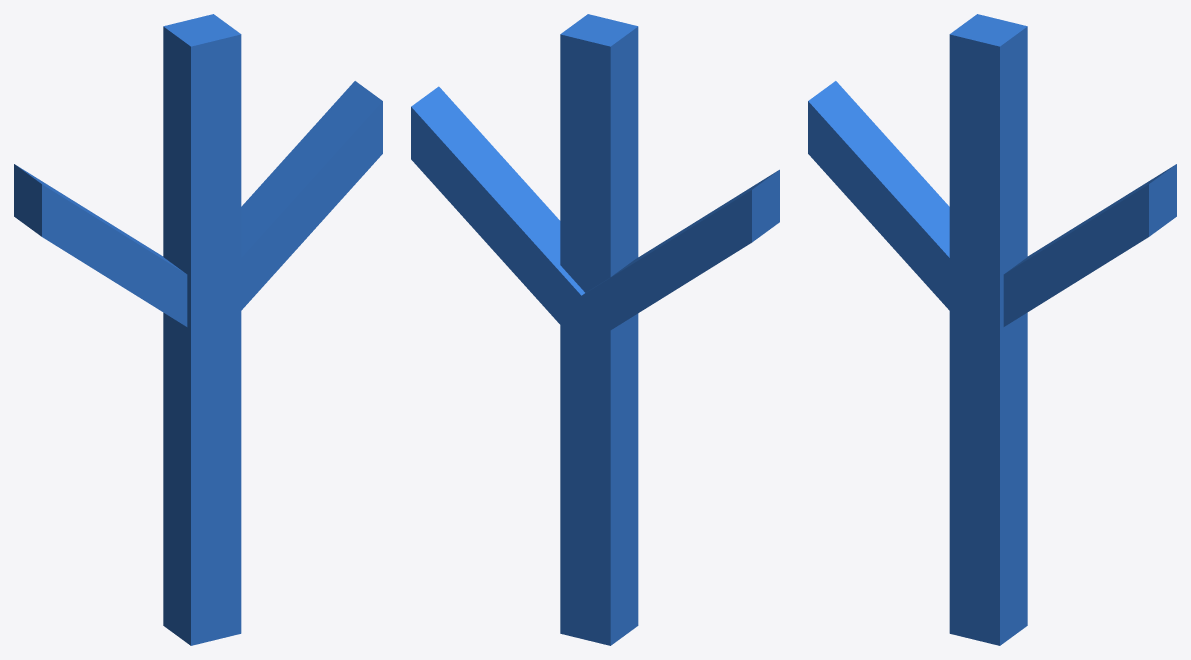
File: rune05.fbx
The picture shows the model from 3 angles, left to right: view 1: azimuth 30°, elevation 25°; view 2: azimuth 150°, elevation 25°; view 3: azimuth 330°, elevation 25°; orthographic projection.
Parts seen in each view (by area): view 1: rune05; view 2: rune05; view 3: rune05.
Part boxes in pixels (left/top/right/bottom): rune05: left=14, top=14, right=382, bottom=645; rune05: left=411, top=14, right=779, bottom=645; rune05: left=808, top=14, right=1176, bottom=645.
Size of the model in its own units: 26.3 by 44.18 by 4.23.
